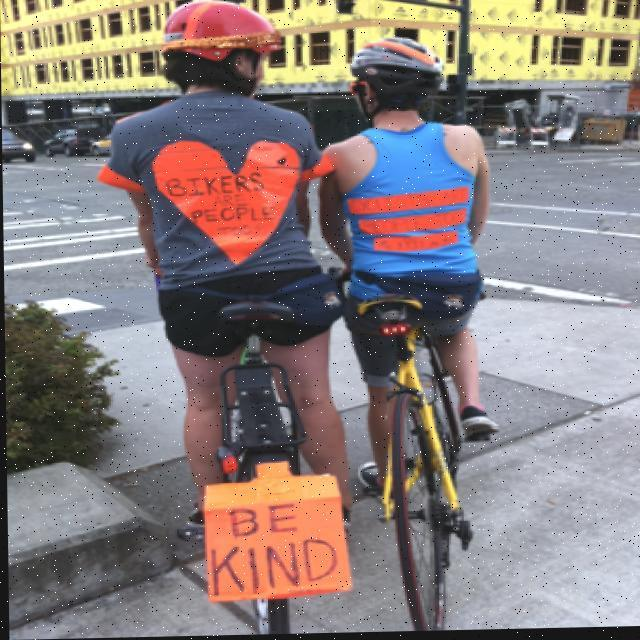Helmet: (158, 0, 280, 98), (352, 34, 446, 117)
